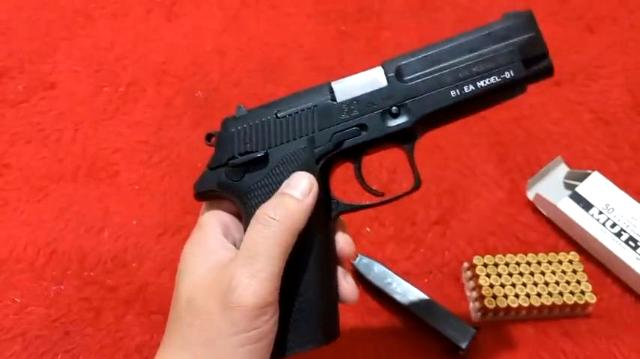pistol: (190, 0, 562, 358)
